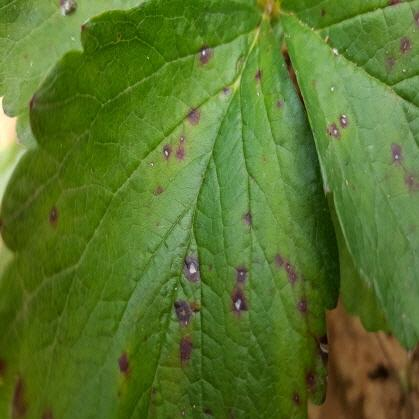Leaf Spot: (0, 0, 342, 418), (276, 0, 418, 360), (0, 0, 139, 150)
